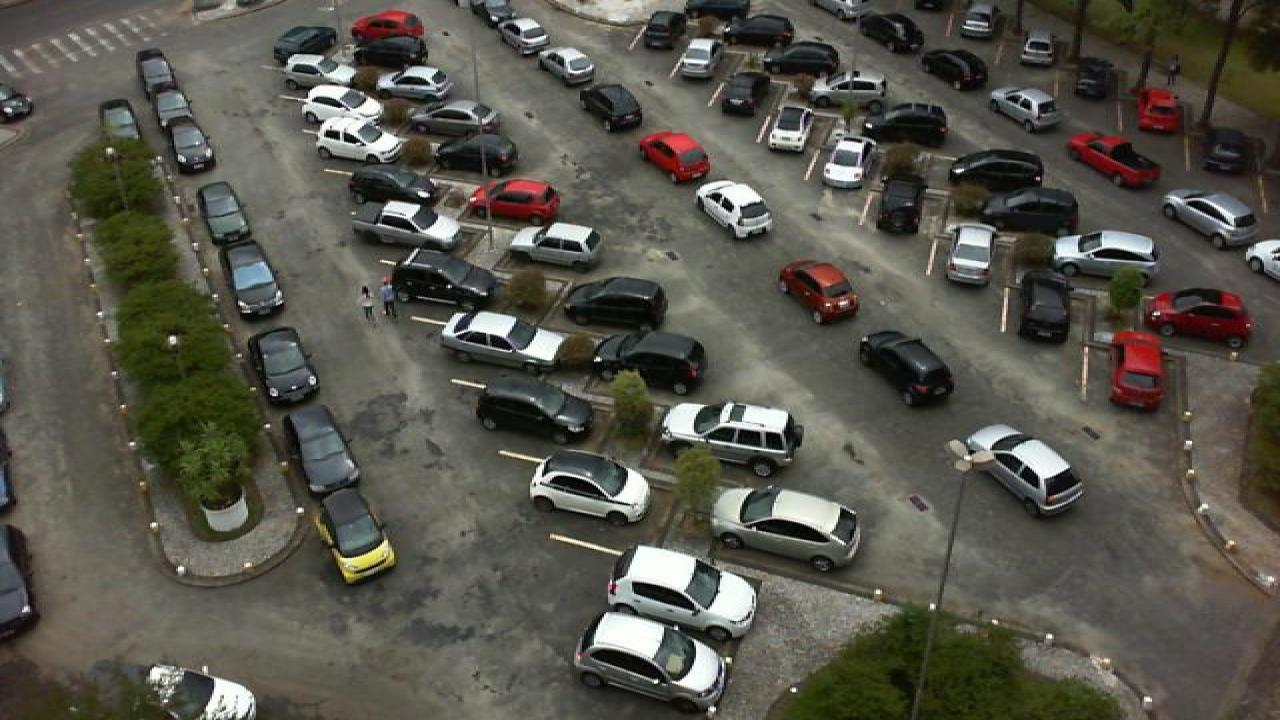Car: (570, 608, 728, 714), (606, 544, 760, 644), (712, 483, 862, 572), (956, 423, 1088, 516), (658, 400, 804, 476), (526, 449, 654, 524), (438, 308, 572, 375), (474, 375, 596, 446), (312, 488, 398, 584), (588, 328, 708, 395), (856, 329, 956, 406), (286, 405, 364, 501), (1140, 286, 1254, 351), (138, 661, 256, 720), (386, 248, 496, 308), (1052, 228, 1164, 284), (348, 199, 462, 252), (244, 325, 318, 404), (560, 274, 668, 328), (1158, 187, 1258, 245), (778, 259, 860, 325), (1064, 132, 1162, 186), (1104, 328, 1166, 412), (694, 178, 776, 240), (982, 186, 1082, 236), (222, 242, 286, 318), (948, 147, 1046, 196), (506, 220, 602, 269), (468, 177, 562, 226), (312, 115, 404, 164), (1014, 269, 1072, 343), (348, 164, 438, 208), (638, 130, 714, 182), (864, 101, 950, 145), (942, 222, 998, 289), (816, 134, 874, 198), (988, 85, 1062, 134), (298, 83, 382, 126), (406, 98, 498, 137), (196, 180, 250, 245), (578, 83, 644, 132), (438, 133, 520, 172), (874, 173, 924, 236), (806, 71, 892, 107), (918, 47, 988, 91), (1202, 125, 1258, 177), (280, 52, 356, 89), (722, 12, 796, 50), (762, 98, 814, 152), (374, 63, 452, 99), (764, 39, 842, 75), (166, 118, 216, 173), (536, 45, 598, 89), (348, 36, 424, 71), (272, 25, 338, 62), (96, 98, 142, 150), (1132, 86, 1182, 132), (350, 9, 424, 39), (502, 24, 558, 61), (1070, 53, 1114, 99), (640, 9, 686, 52), (862, 24, 914, 62), (150, 84, 194, 128), (674, 36, 718, 80), (1020, 29, 1062, 69), (134, 48, 172, 92), (958, 3, 1002, 40), (478, 3, 526, 36), (686, 0, 748, 22), (808, 0, 870, 20)
